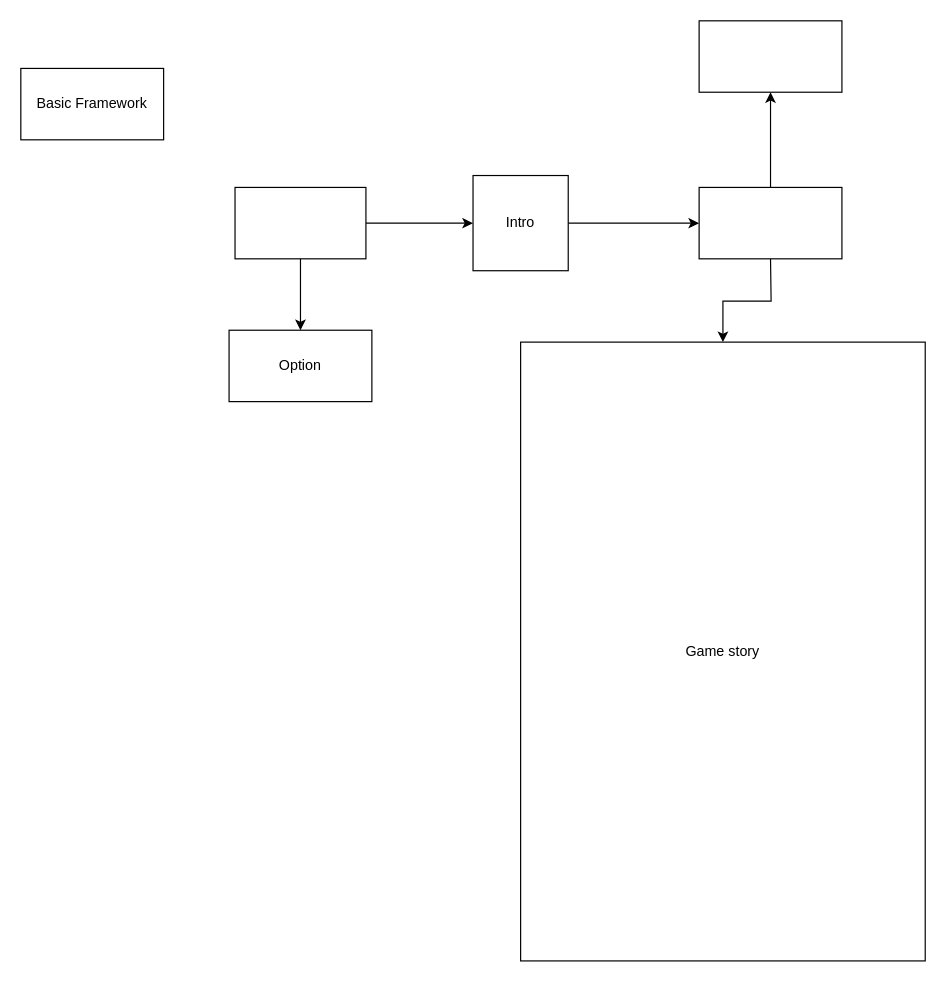
Image size: 946x982. Some labels were removed from this diagram. The shapes that lost their labels are listed below. From the top down, each one's centre as x and y in pixels, then its label:
point 300,222: Game Menu
point 770,222: Character Creation
